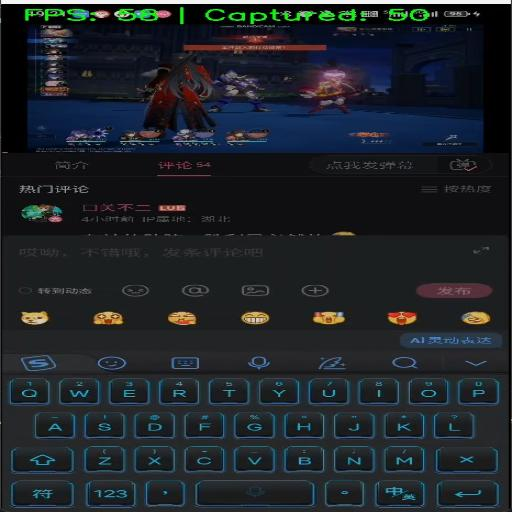back: (462, 353, 512, 373)
input: (19, 238, 502, 262)
